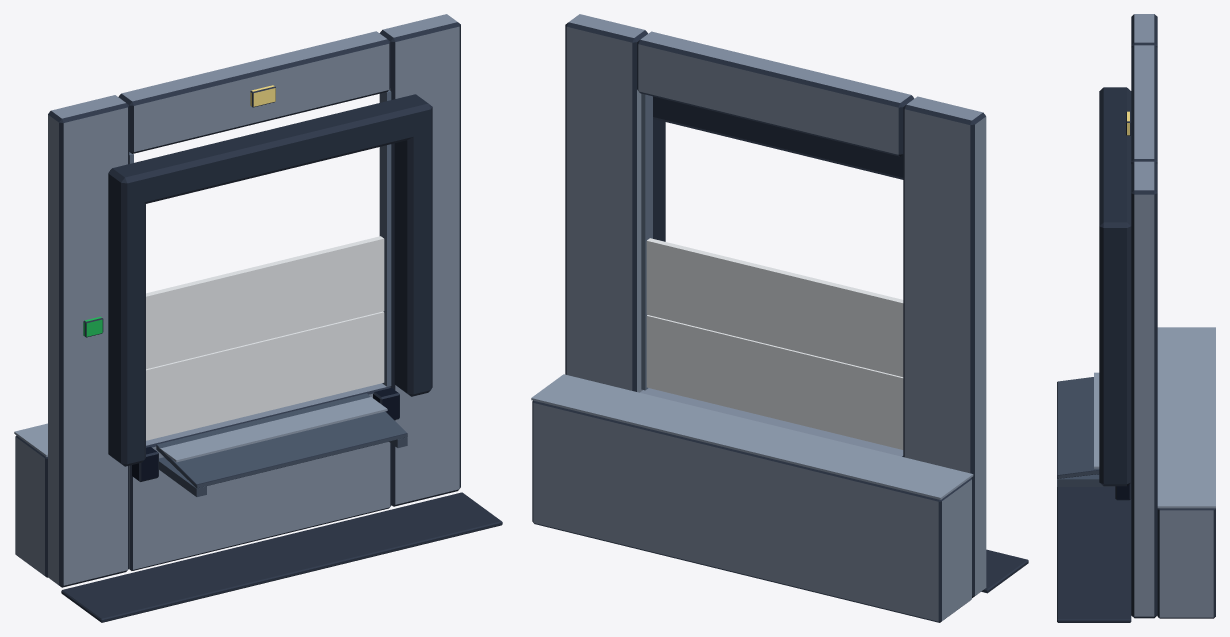
The model's file is dock_leveler.glb.
3 views of the same model, side by side, from view 1: azimuth 30°, elevation 25°; view 2: azimuth 150°, elevation 25°; view 3: azimuth 270°, elevation 25° (orthographic). The views are drawn at different scales.
Visible parts, largest first — view 1: dock_leveler; view 2: dock_leveler; view 3: dock_leveler.
Boxes of the visible parts, bbox=[...] form: dock_leveler: bbox=[14, 14, 502, 622]; dock_leveler: bbox=[531, 14, 1028, 622]; dock_leveler: bbox=[1057, 14, 1215, 622].
Size of the model in its own units: 4 by 4.5 by 1.5.
